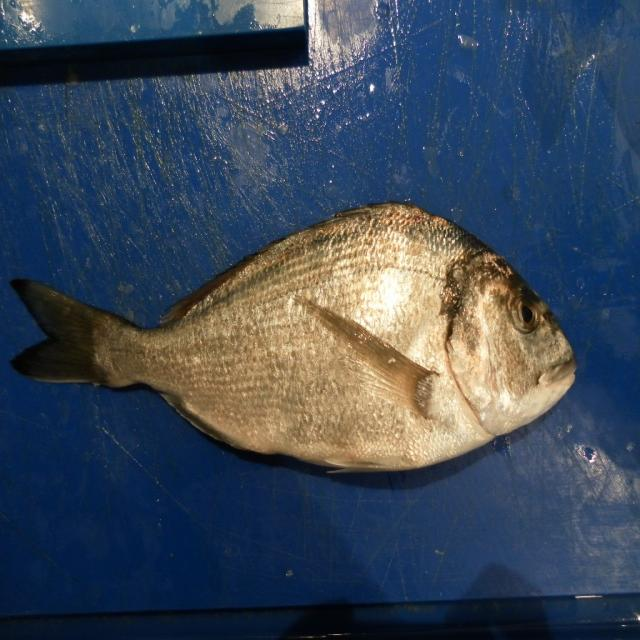Gilt-Head-Bream-c-ipura-: (9, 202, 578, 476)
